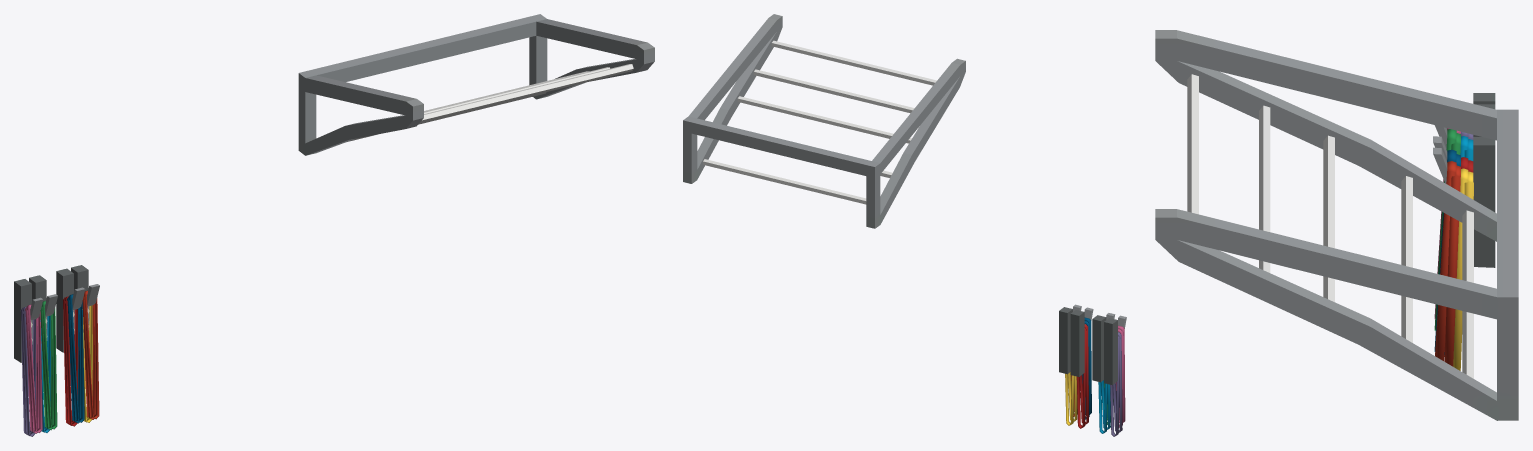
Rendered from gym_decoration_2.glb.
3 renders of one model, left to right at view 1: azimuth 30°, elevation 25°; view 2: azimuth 150°, elevation 25°; view 3: azimuth 270°, elevation 25°, orthographic. The views are drawn at different scales.
Visible parts, largest first — view 1: GymEquipments_14; view 2: GymEquipments_14; view 3: GymEquipments_14.
Part boxes in pixels (box(x1,y1,x2,y2)): GymEquipments_14: box(14, 14, 654, 436); GymEquipments_14: box(683, 14, 1126, 436); GymEquipments_14: box(1155, 30, 1518, 420).
Size of the model in its own units: 1.73 by 1.02 by 0.6415.
1 material, 1 textured.
